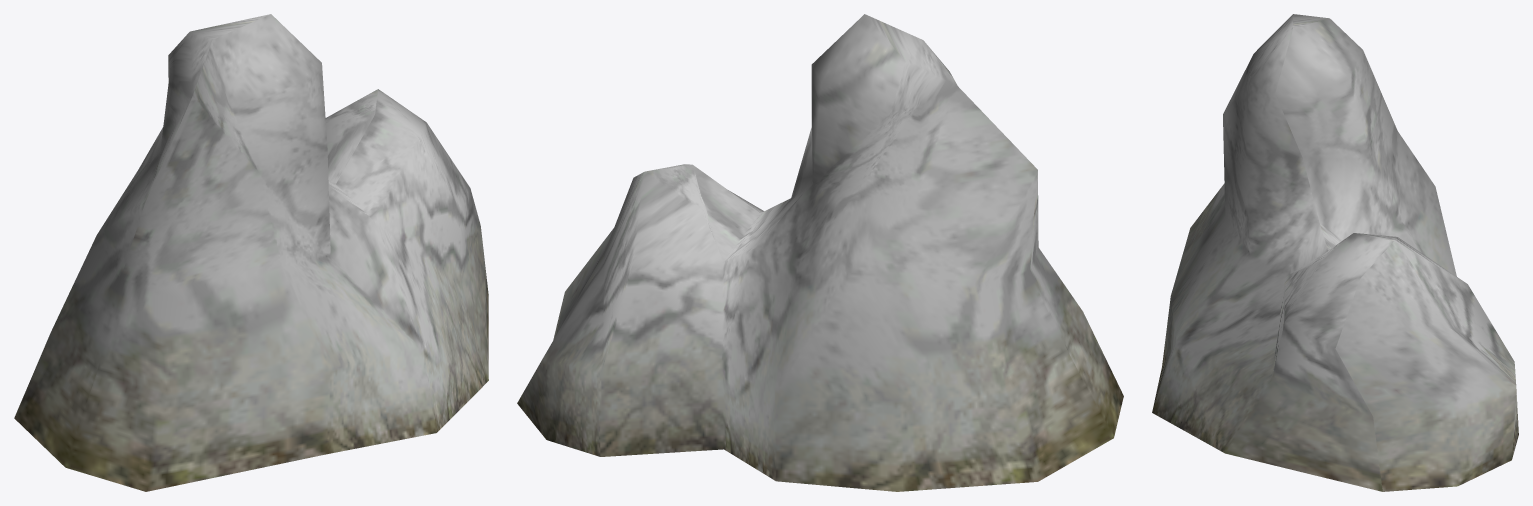
The model's file is general_obj_bigstone08.fbx.
3 renders of one model, left to right at view 1: azimuth 30°, elevation 25°; view 2: azimuth 150°, elevation 25°; view 3: azimuth 270°, elevation 25°, orthographic. The views are drawn at different scales.
Visible parts, largest first — view 1: Sphere01; view 2: Sphere01; view 3: Sphere01.
Part boxes in pixels (x1,y1,x2,y2): Sphere01: (14, 14, 488, 491); Sphere01: (517, 14, 1123, 491); Sphere01: (1152, 14, 1518, 491).
Bounding box in the file's own units: 23.18 × 17.16 × 16.53.
